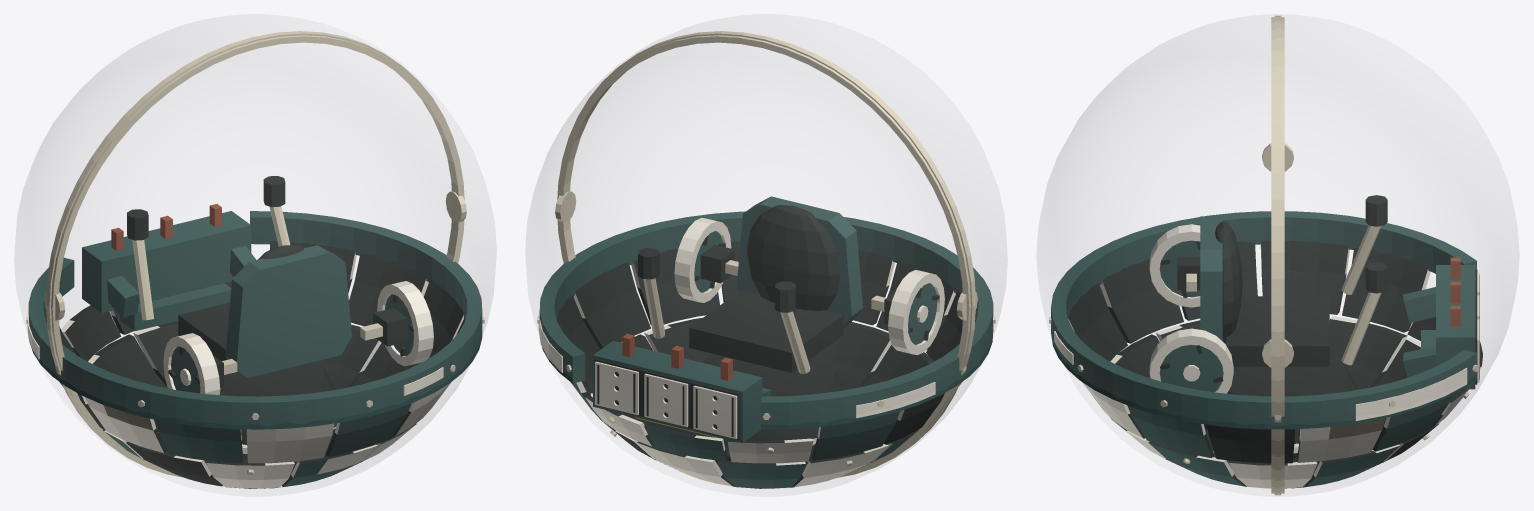
File: shell_tally.glb
3 renders of one model, left to right at view 1: azimuth 30°, elevation 25°; view 2: azimuth 150°, elevation 25°; view 3: azimuth 270°, elevation 25°, orthographic.
Parts seen in each view (by area): view 1: Pod, Core, Gyro, ReaderCarriage, Flywheel.R, Flywheel.L; view 2: Pod, Core, ReaderCarriage, Gyro, Flywheel.L, Flywheel.R; view 3: Core, Pod, Gyro, Flywheel.R, ReaderCarriage, Flywheel.L.
Part boxes in pixels (x1,y1,x2,y2): Pod: (26, 176, 484, 488); Core: (14, 14, 496, 496); Gyro: (44, 31, 466, 477); ReaderCarriage: (82, 204, 251, 312); Flywheel.R: (377, 281, 433, 366); Flywheel.L: (163, 333, 220, 394); Pod: (537, 196, 995, 488); Core: (525, 14, 1007, 496); ReaderCarriage: (593, 333, 762, 442); Gyro: (555, 31, 977, 477); Flywheel.L: (888, 270, 944, 355); Flywheel.R: (674, 218, 731, 302); Core: (1036, 14, 1519, 496); Pod: (1049, 195, 1482, 488); Gyro: (1262, 15, 1293, 495); Flywheel.R: (1149, 328, 1233, 393); ReaderCarriage: (1436, 257, 1479, 389); Flywheel.L: (1149, 224, 1200, 307).
Size of the model in its own units: 1.96 by 1.96 by 1.96.
